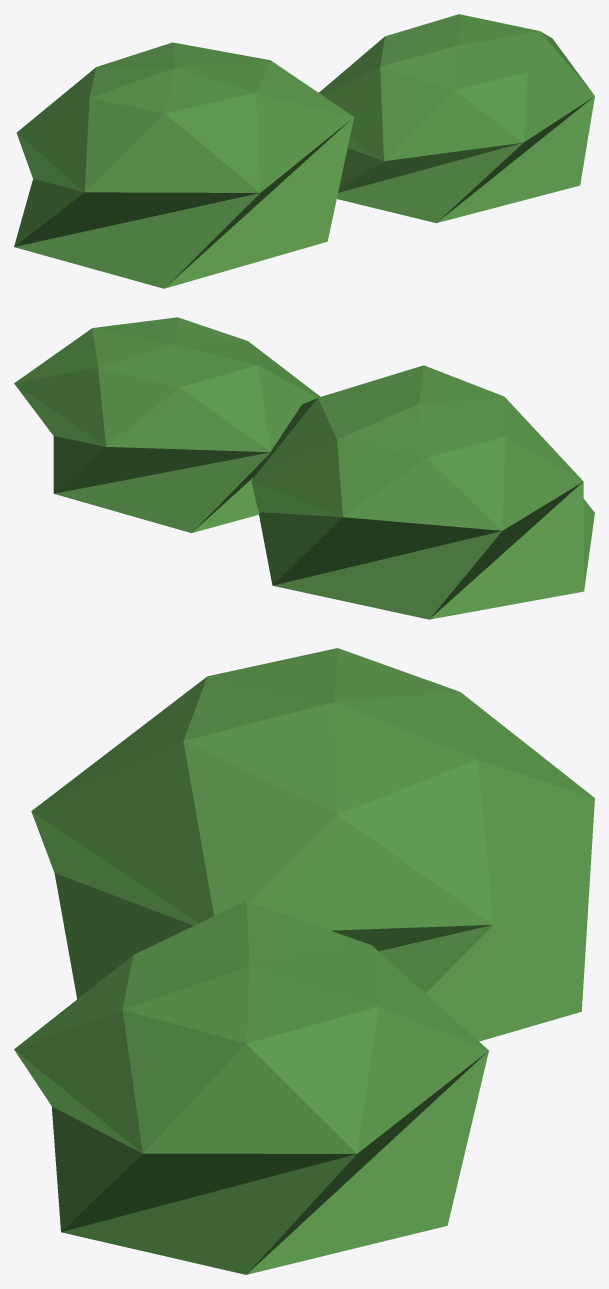
File: item_rm_jade_a.obj
3 views of the same model, one above another, from view 1: azimuth 30°, elevation 25°; view 2: azimuth 150°, elevation 25°; view 3: azimuth 270°, elevation 25° (orthographic). The views are drawn at different scales.
Size of the model in its own units: 0.7554 by 0.1872 by 0.3967.
